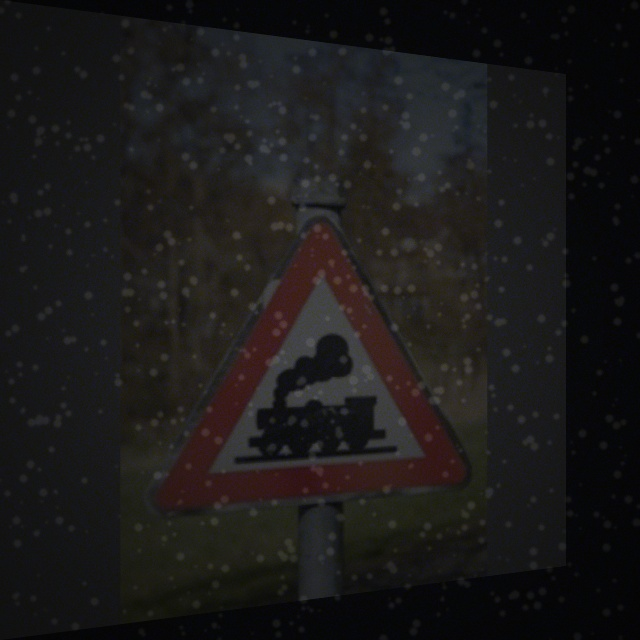Unguarded_Level_Crossing: (142, 207, 470, 518)
